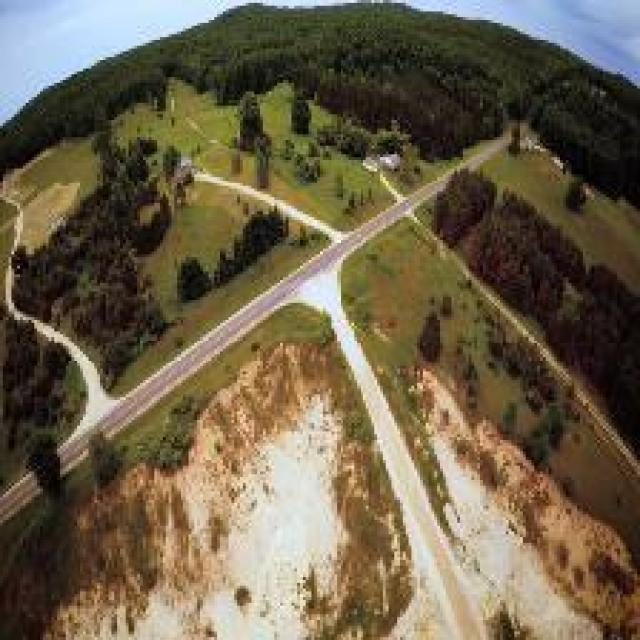other: (418, 370, 546, 621), (189, 409, 342, 617), (287, 266, 360, 349)
